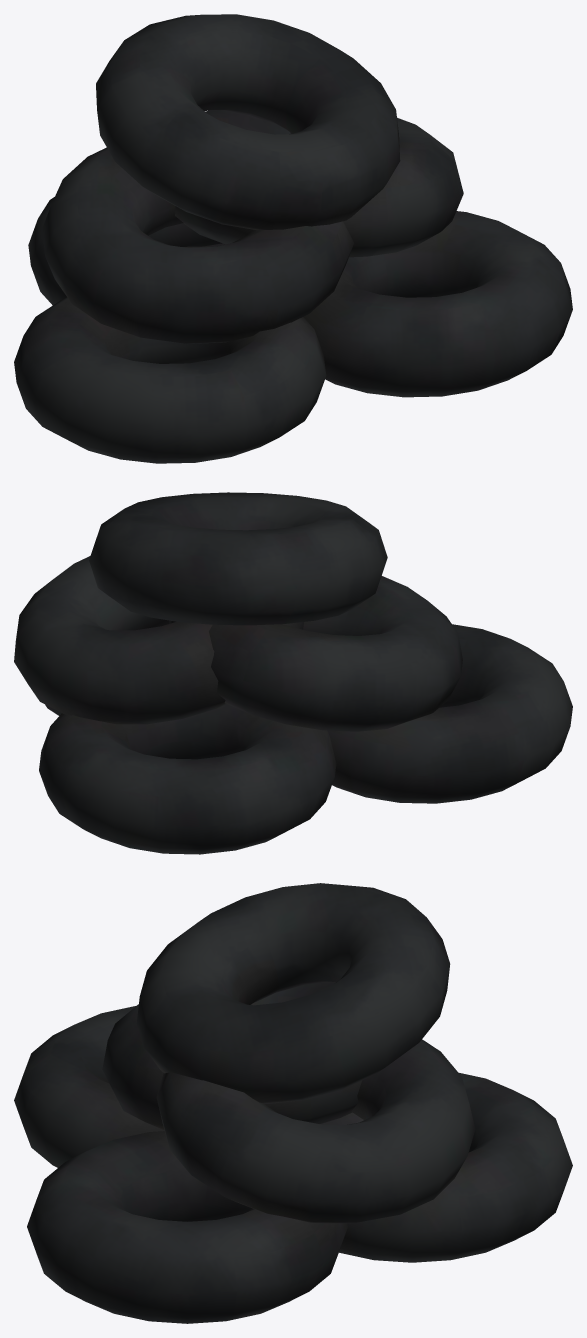
Rendered from tire_pile_loose.glb.
3 renders of one model, top to bottom at view 1: azimuth 30°, elevation 25°; view 2: azimuth 150°, elevation 25°; view 3: azimuth 270°, elevation 25°, orthographic. The views are drawn at different scales.
Visible parts, largest first — view 1: TirePileLoose; view 2: TirePileLoose; view 3: TirePileLoose.
Boxes of the visible parts, x1,y1,x2,y2 form: TirePileLoose: [14, 14, 572, 463]; TirePileLoose: [14, 492, 572, 854]; TirePileLoose: [14, 883, 572, 1323].
Size of the model in its own units: 1.93 by 0.9953 by 1.74.
1 material, 1 textured.
